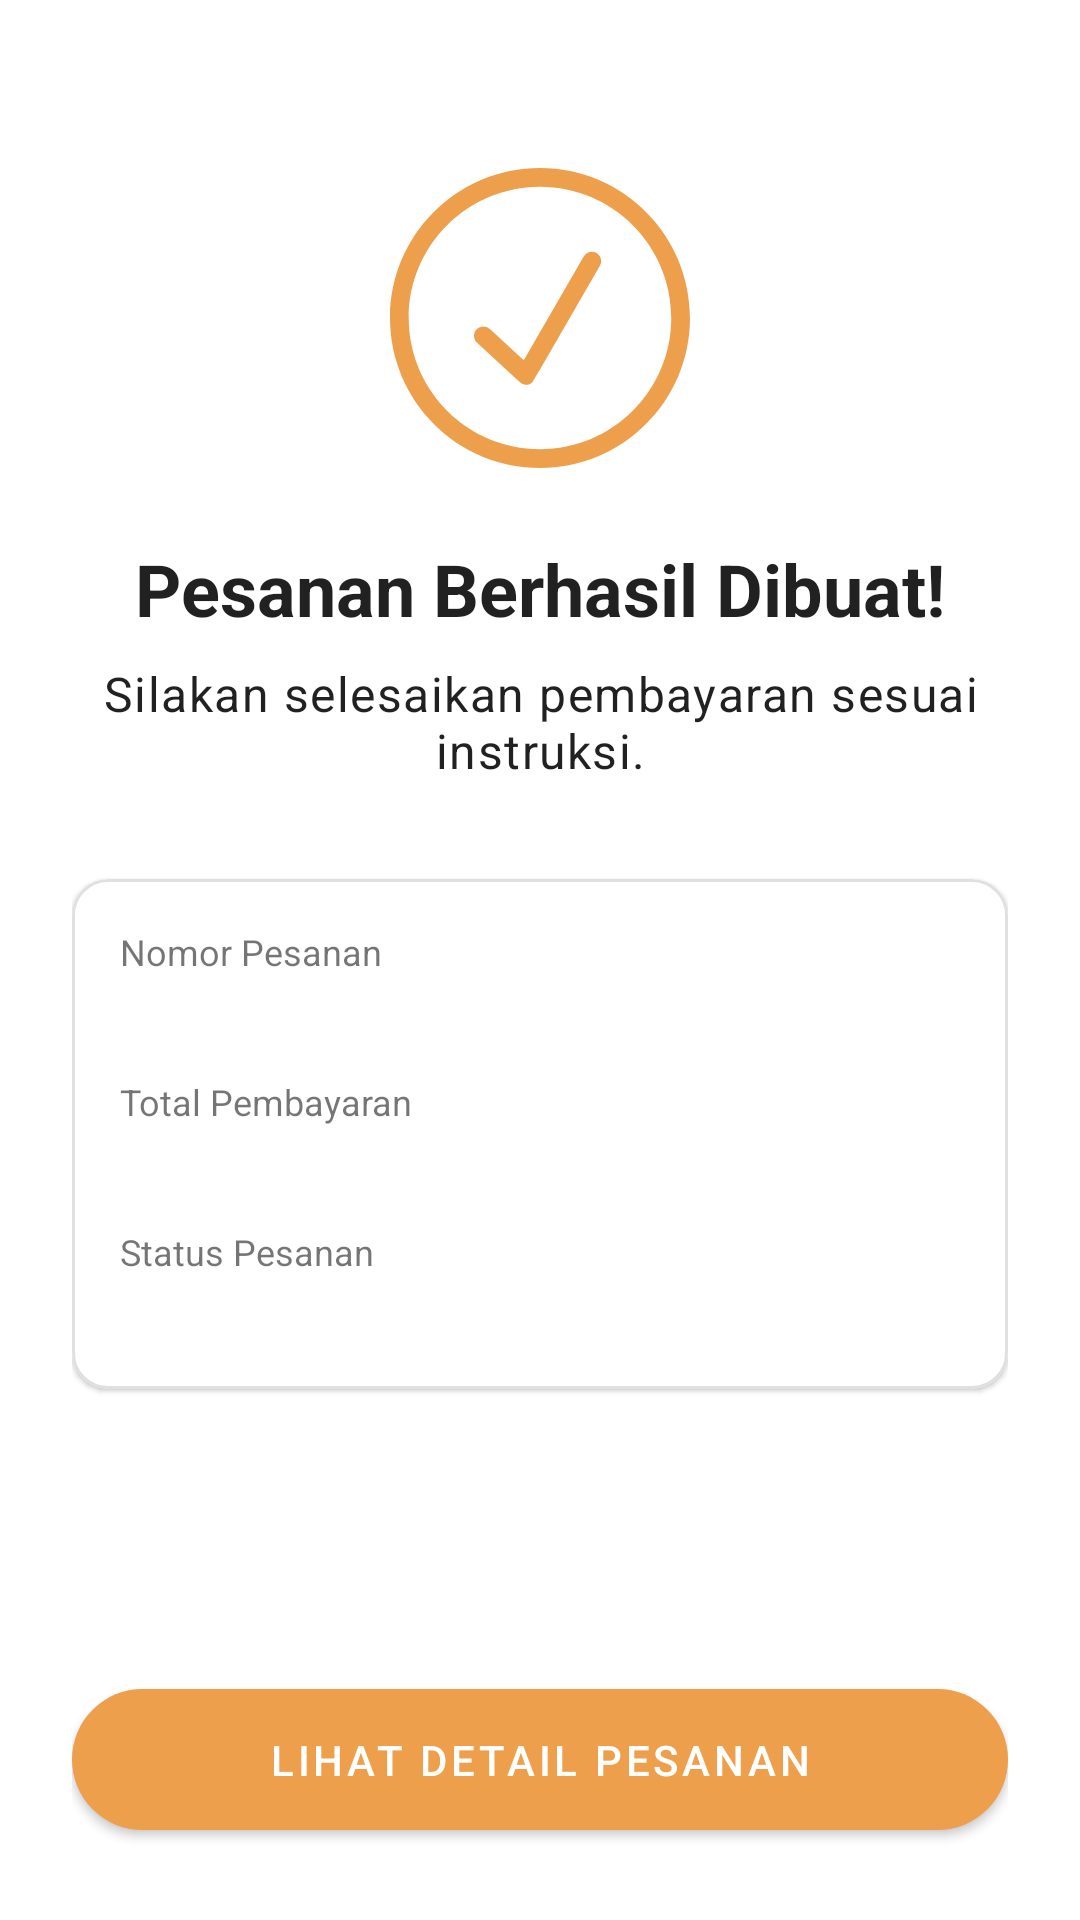

Screen size 1080px x 1920px. Icon name, then its box in pixels as (x1, y1, x2, y2):
checkmark: (390, 168, 690, 468)
